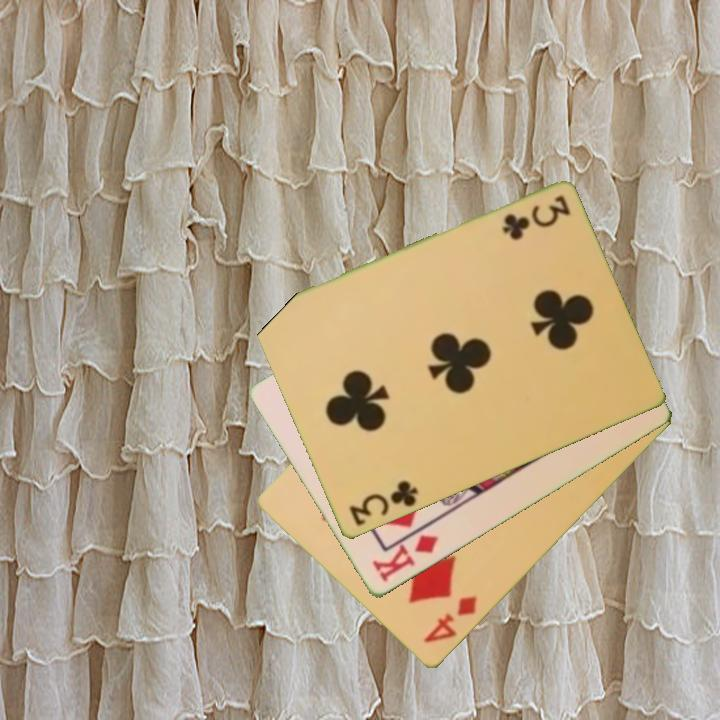3c: (345, 477, 421, 530), (498, 192, 573, 242)
4d: (419, 592, 480, 647)
Kd: (368, 531, 442, 586)
